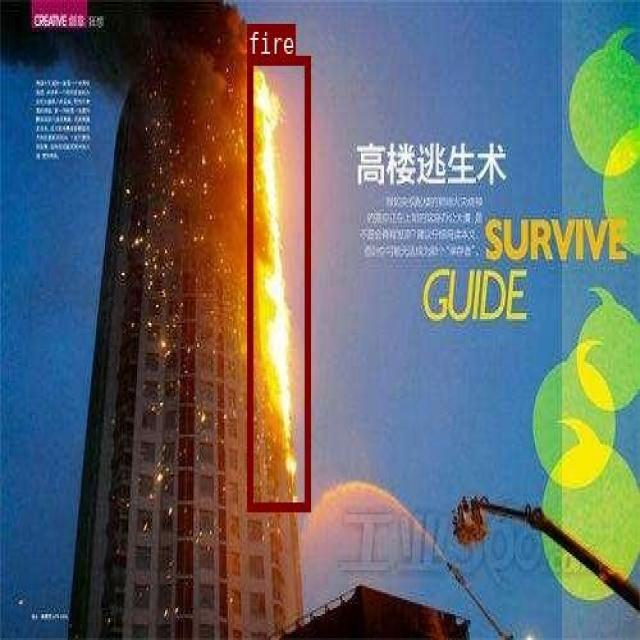fire: (247, 55, 309, 510)
